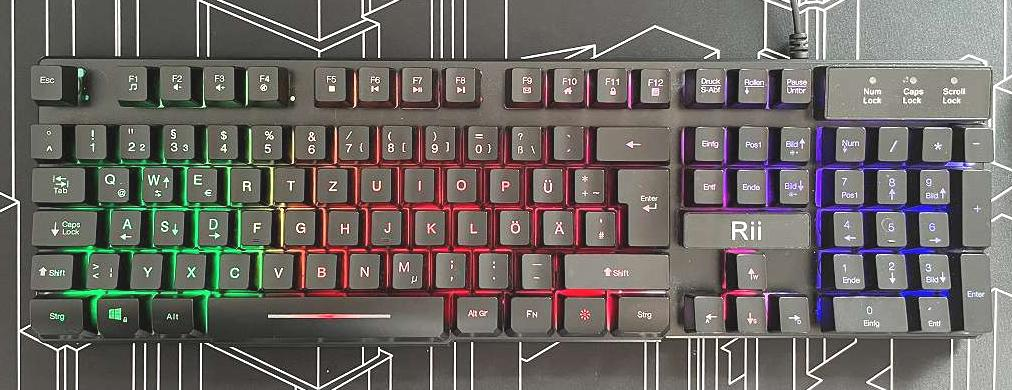0: (463, 122, 498, 159)
1: (73, 121, 106, 158)
2: (116, 120, 150, 159)
3: (159, 120, 194, 159)
4: (205, 120, 238, 158)
5: (249, 121, 283, 159)
6: (292, 121, 327, 159)
7: (335, 121, 369, 159)
8: (377, 121, 412, 159)
9: (421, 121, 456, 159)
a: (107, 205, 141, 245)
accent: (550, 121, 584, 158)
ae: (540, 205, 573, 244)
alt-left: (149, 294, 193, 333)
altgr-right: (453, 292, 498, 331)
b: (302, 248, 337, 287)
c: (216, 249, 250, 288)
caret: (28, 121, 62, 158)
comma: (432, 248, 466, 286)
d: (195, 206, 228, 245)
del: (593, 123, 669, 160)
e: (183, 163, 216, 202)
enter: (615, 162, 669, 245)
f: (239, 205, 271, 244)
g: (281, 204, 315, 244)
h: (325, 205, 358, 244)
hash: (582, 206, 614, 244)
i: (401, 163, 433, 200)
j: (368, 205, 401, 243)
k: (411, 205, 445, 243)
keyboard: (20, 51, 1006, 350)
l: (453, 205, 487, 243)
less: (83, 249, 119, 287)
m: (388, 248, 422, 287)
minus: (518, 249, 551, 286)
n: (346, 249, 380, 287)
o: (443, 164, 476, 200)
oe: (496, 206, 529, 243)
p: (487, 164, 519, 201)
plus: (570, 164, 603, 201)
point: (475, 248, 508, 286)
q: (94, 163, 129, 201)
r: (227, 163, 261, 202)
s: (150, 206, 184, 245)
shift-left: (27, 250, 73, 289)
shift-lock: (30, 206, 97, 245)
shift-right: (562, 249, 668, 287)
space: (202, 290, 446, 338)
ss: (507, 122, 540, 159)
strg-left: (27, 295, 83, 333)
strg-right: (614, 291, 669, 331)
t: (271, 163, 304, 200)
tab: (29, 164, 86, 202)
u: (357, 163, 391, 200)
ue: (529, 163, 563, 201)
v: (260, 248, 294, 287)
w: (140, 162, 173, 201)
x: (173, 250, 206, 287)
y: (128, 249, 162, 288)
z: (314, 163, 347, 201)
